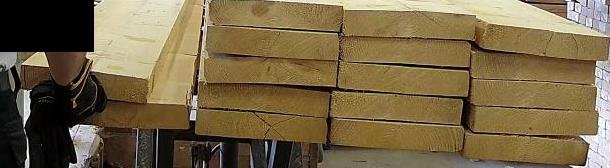Wood-Plank: (22, 63, 150, 104), (482, 22, 610, 61), (206, 24, 340, 60), (195, 108, 328, 143), (332, 90, 464, 125), (204, 52, 336, 86), (199, 83, 331, 117), (340, 62, 470, 96), (330, 120, 465, 152), (464, 130, 590, 164), (209, 0, 343, 31), (340, 36, 472, 67), (343, 10, 475, 40), (63, 100, 187, 131), (474, 52, 597, 82), (469, 80, 596, 109), (474, 107, 599, 135)
